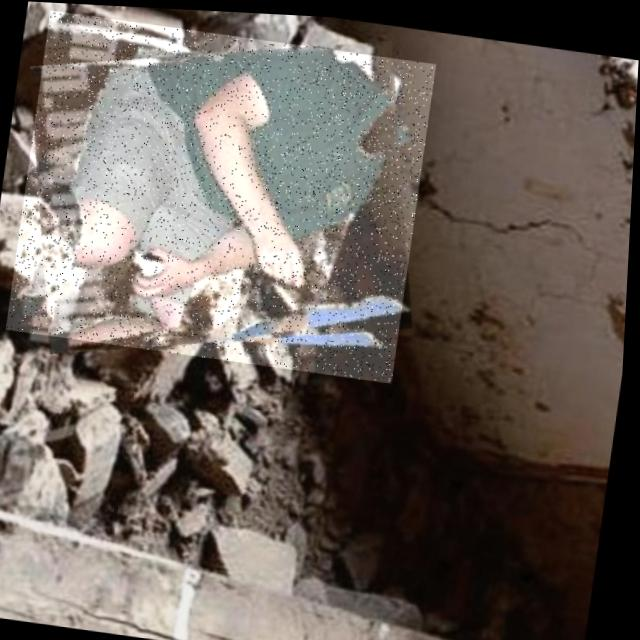Person in Rubble: (6, 8, 437, 380)
